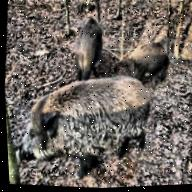boar: (3, 57, 192, 192), (49, 0, 123, 75), (120, 28, 192, 102)
